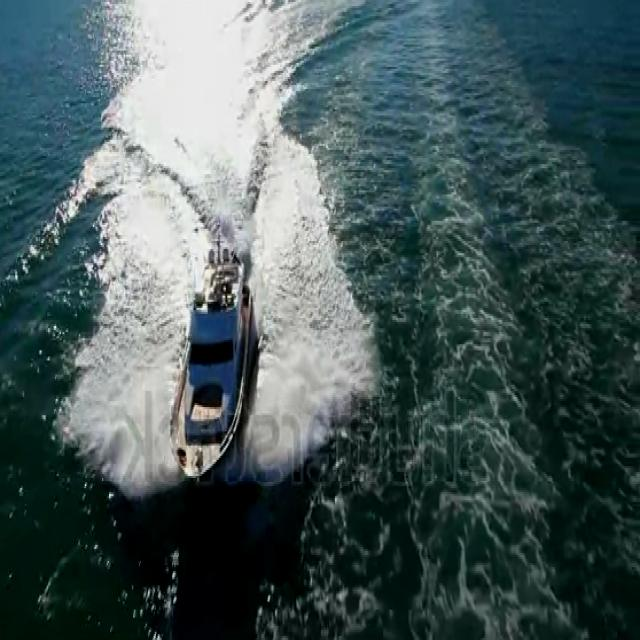ship: (158, 228, 264, 491)
